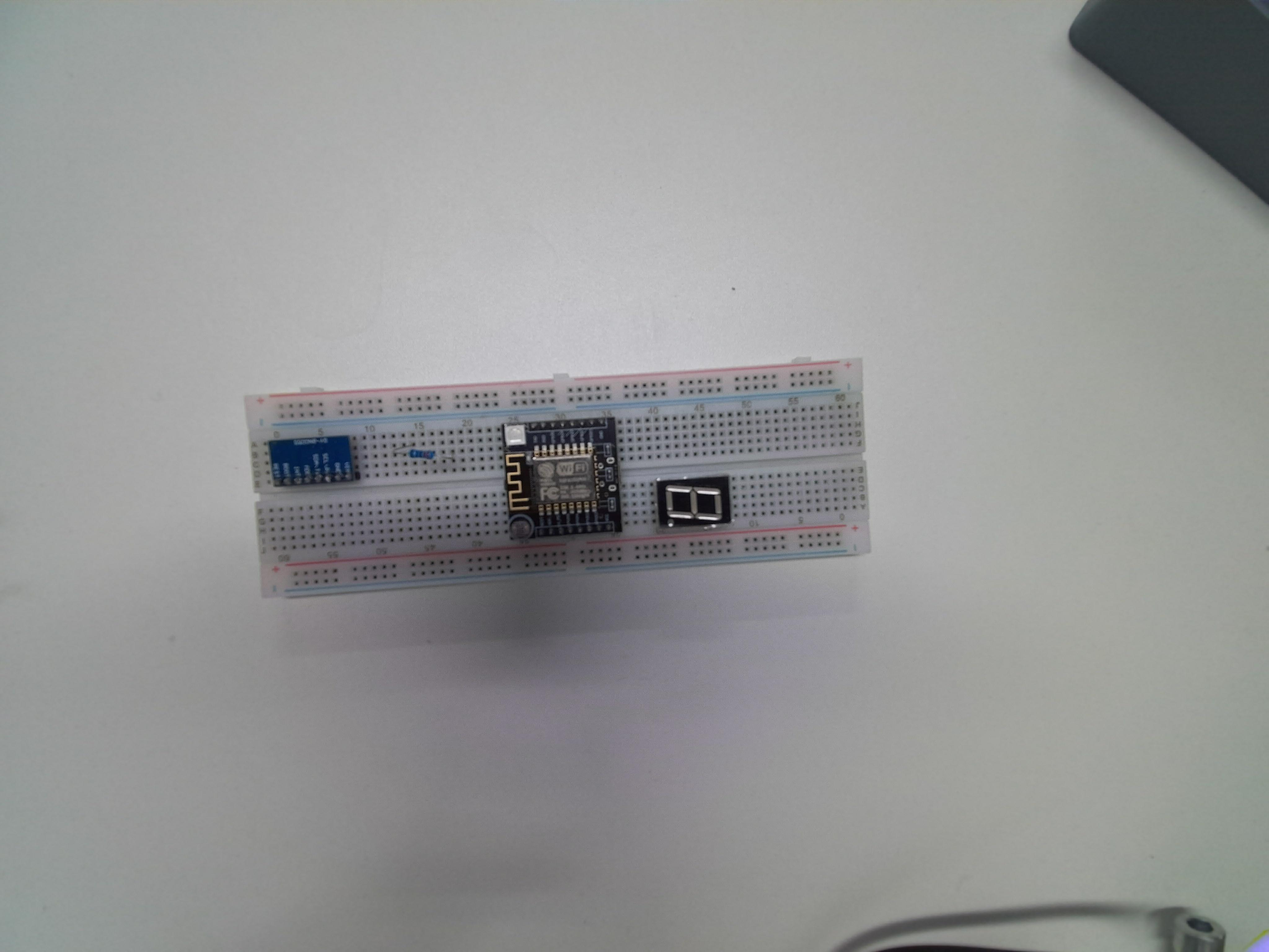base: (242, 359, 873, 597)
blue-board: (267, 432, 359, 488)
digit-board: (655, 474, 733, 529)
esp: (504, 412, 625, 543), (654, 474, 733, 531)
resistor-small: (408, 446, 435, 462)
